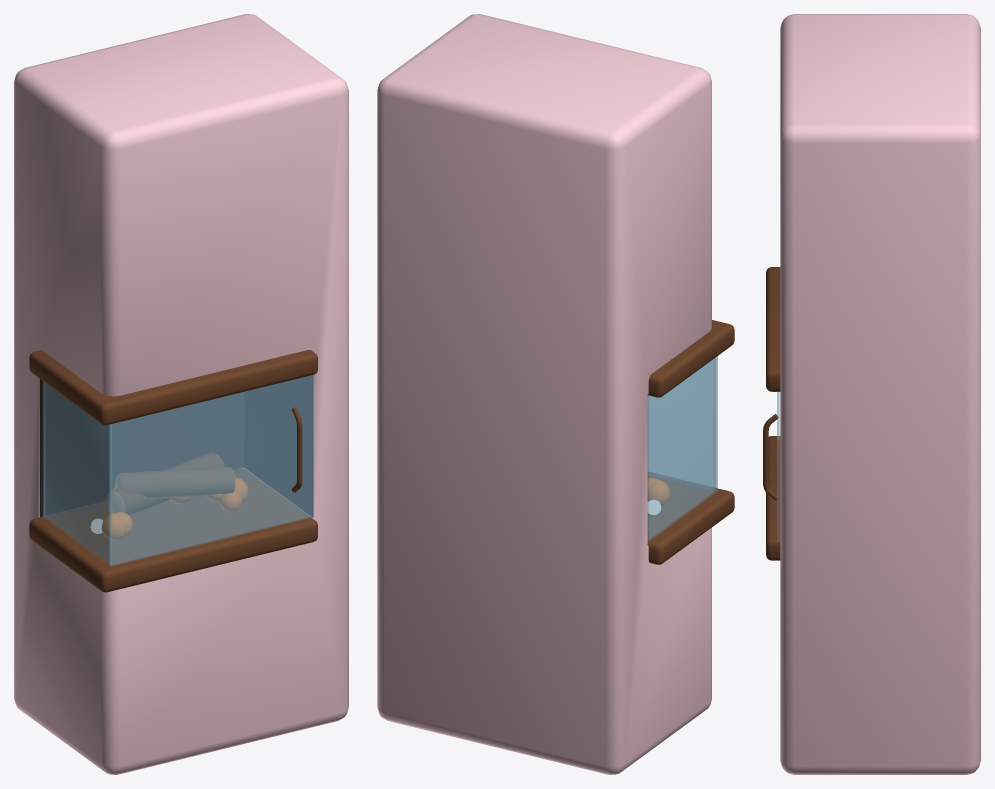
Rendered from lareira_moderna_rosada.glb.
The picture shows the model from 3 angles, left to right: view 1: azimuth 30°, elevation 25°; view 2: azimuth 150°, elevation 25°; view 3: azimuth 270°, elevation 25°; orthographic projection.
Parts seen in each view (by area): view 1: lareira_moderna_rosada, porta_1; view 2: lareira_moderna_rosada, porta_1; view 3: lareira_moderna_rosada, porta_1.
Boxes of the visible parts, x1,y1,x2,y2 form: lareira_moderna_rosada: [14, 14, 348, 774]; porta_1: [109, 375, 313, 566]; lareira_moderna_rosada: [377, 14, 734, 774]; porta_1: [648, 356, 717, 492]; lareira_moderna_rosada: [766, 14, 980, 774]; porta_1: [763, 392, 779, 541].
Size of the model in its own units: 0.63 by 1.5 by 0.456.
Materials: 3 (1 with a texture image).
